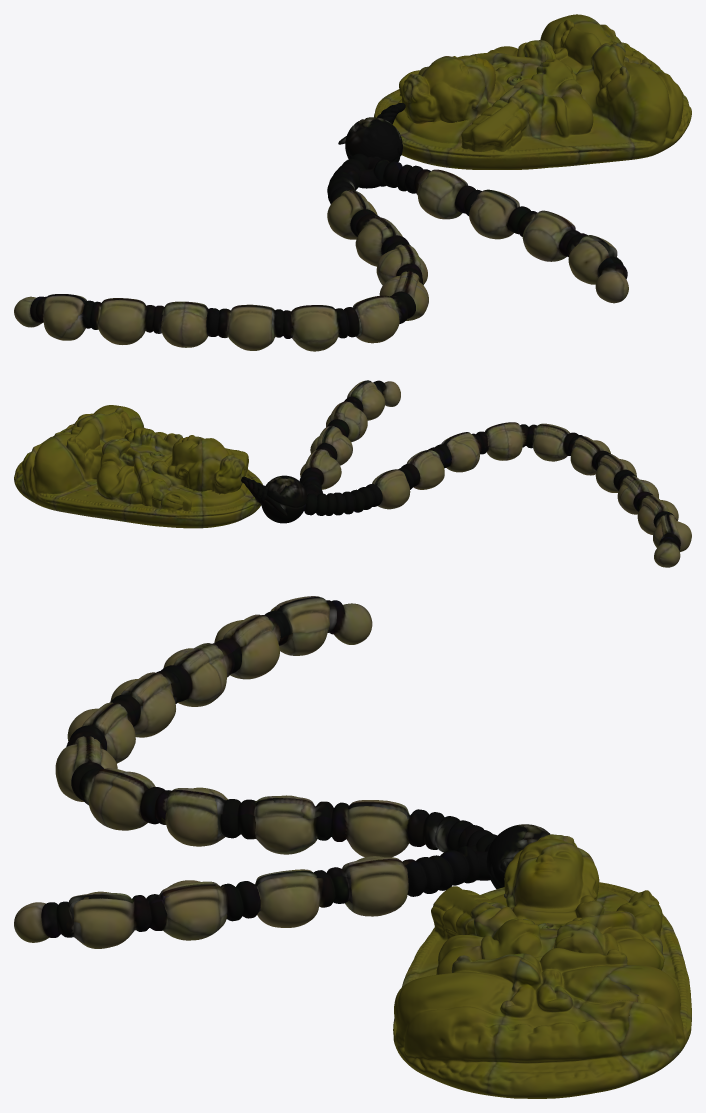
The model's file is buddha-pendant.glb.
3 views of the same model, one above another, from view 1: azimuth 30°, elevation 25°; view 2: azimuth 150°, elevation 25°; view 3: azimuth 270°, elevation 25° (orthographic). The views are drawn at different scales.
Parts seen in each view (by area): view 1: tripo_node_4bdec264-b93b-4b6e-8689-603e5d6d990b; view 2: tripo_node_4bdec264-b93b-4b6e-8689-603e5d6d990b; view 3: tripo_node_4bdec264-b93b-4b6e-8689-603e5d6d990b.
Part boxes in pixels (<box>): tripo_node_4bdec264-b93b-4b6e-8689-603e5d6d990b: <box>14,14,691,351</box>; tripo_node_4bdec264-b93b-4b6e-8689-603e5d6d990b: <box>14,380,691,567</box>; tripo_node_4bdec264-b93b-4b6e-8689-603e5d6d990b: <box>14,596,691,1098</box>.
Bounding box in the file's own units: 0.9802 × 0.1189 × 0.5953.
1 material, 1 textured.
